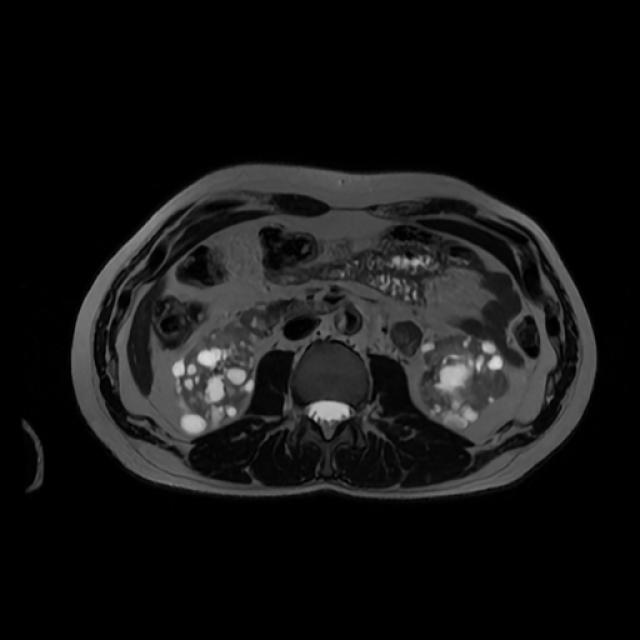sag: (174, 324, 257, 434)
sol: (418, 333, 507, 425)
